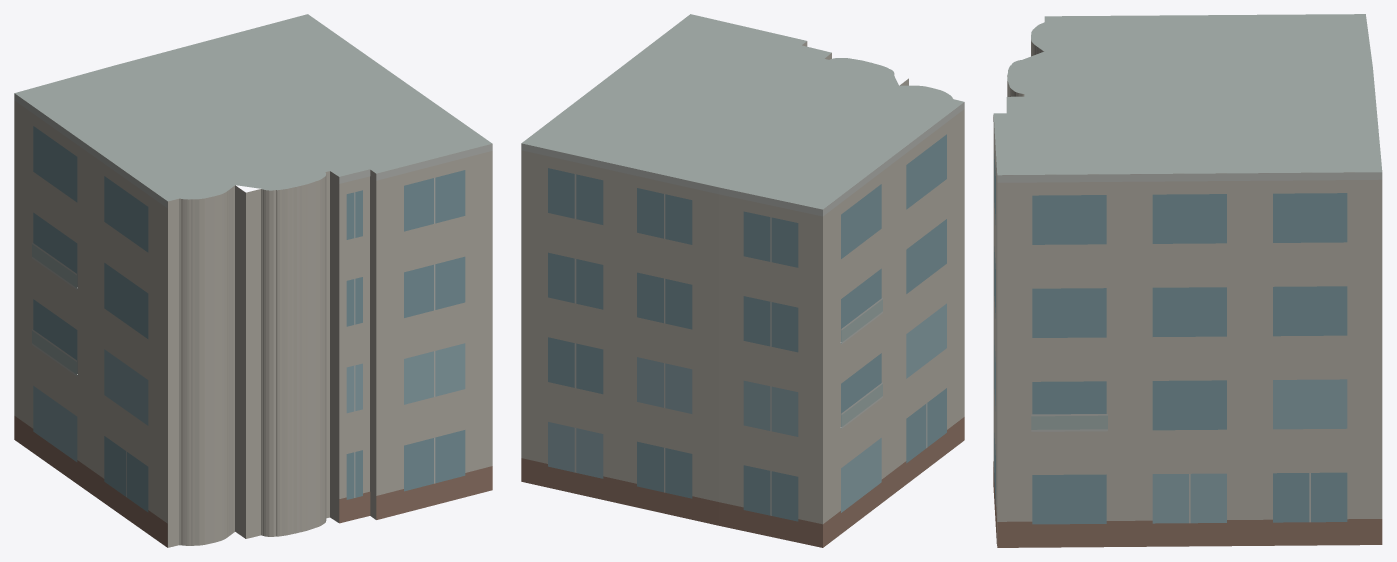
Rendered from survey-upis-32656418.glb.
The picture shows the model from 3 angles, left to right: view 1: azimuth 30°, elevation 25°; view 2: azimuth 150°, elevation 25°; view 3: azimuth 270°, elevation 25°; orthographic projection. The views are drawn at different scales.
Visible parts, largest first — view 1: survey-upis-32656418.tmp; view 2: survey-upis-32656418.tmp; view 3: survey-upis-32656418.tmp.
Boxes of the visible parts, <box> form: survey-upis-32656418.tmp: <box>14,14,492,547</box>; survey-upis-32656418.tmp: <box>521,14,964,547</box>; survey-upis-32656418.tmp: <box>993,14,1382,547</box>.
Size of the model in its own units: 11.08 by 11.9 by 11.26.
